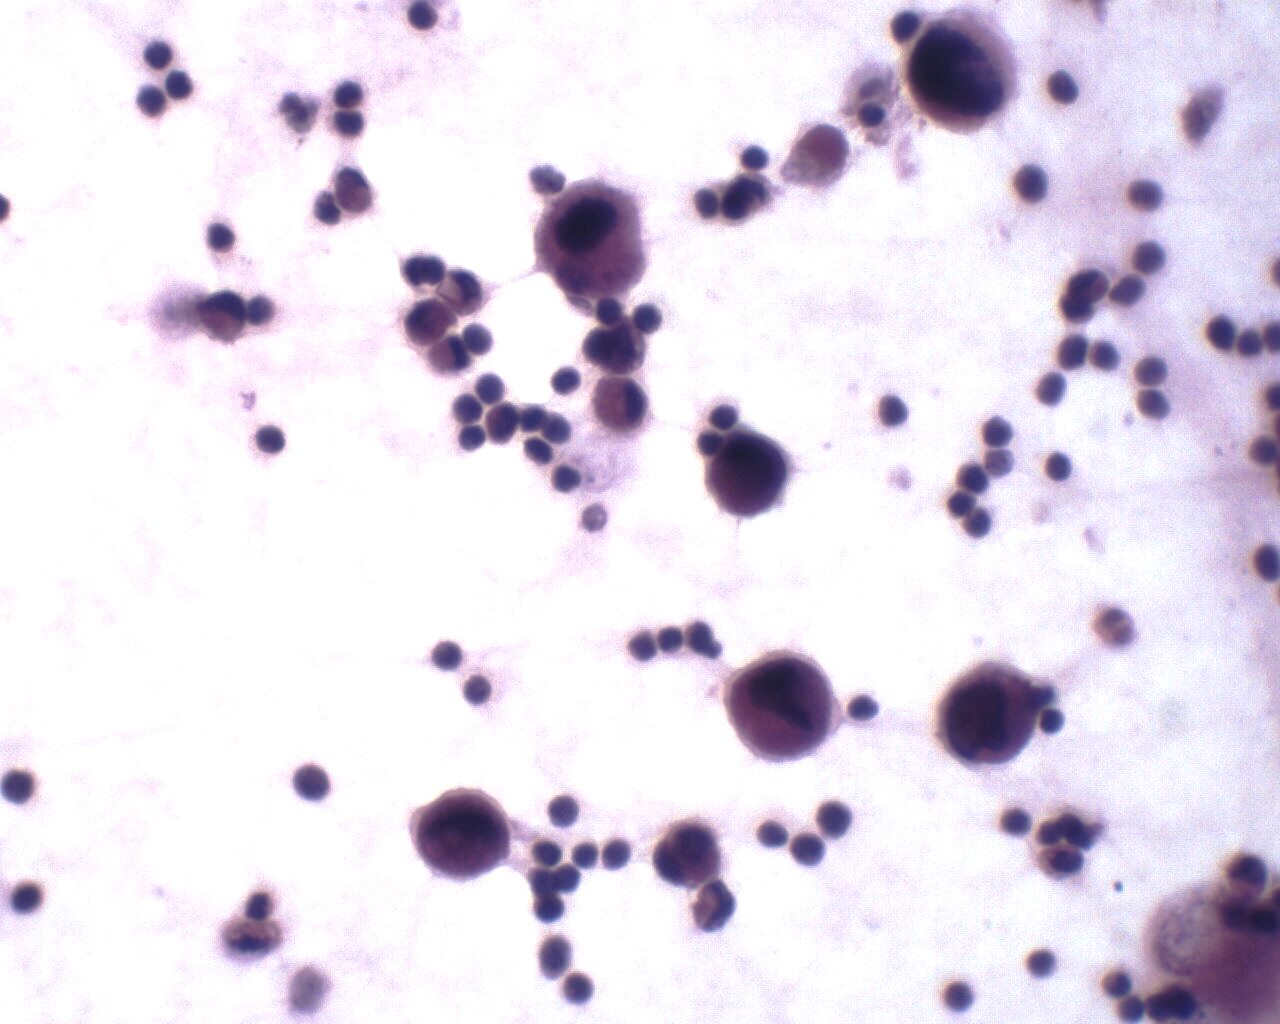ab: (904, 4, 1027, 134), (533, 179, 660, 299), (720, 648, 838, 767), (933, 658, 1045, 777), (409, 789, 525, 889), (705, 430, 798, 523)
lymph: (247, 420, 296, 465), (6, 878, 54, 921), (872, 388, 920, 430), (203, 218, 247, 261), (1022, 944, 1065, 985), (549, 360, 587, 404), (1033, 370, 1073, 411), (735, 139, 778, 174), (139, 34, 176, 76), (1043, 450, 1080, 487), (757, 816, 791, 854), (1040, 705, 1070, 738)
meso: (589, 371, 653, 435)
